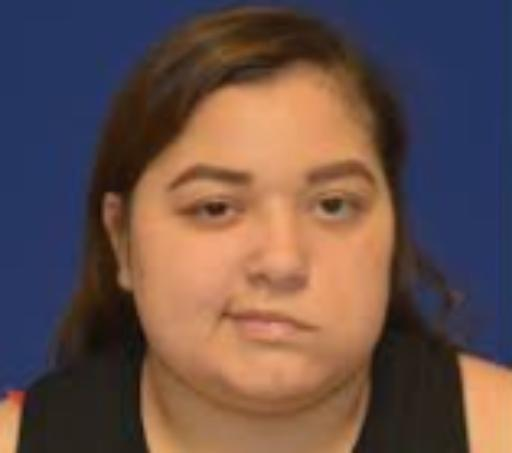left_eye: (308, 196, 365, 222)
left_lip_corner: (302, 313, 330, 337)
right_eye: (179, 201, 245, 225)
right_lip_corner: (207, 307, 249, 332)
